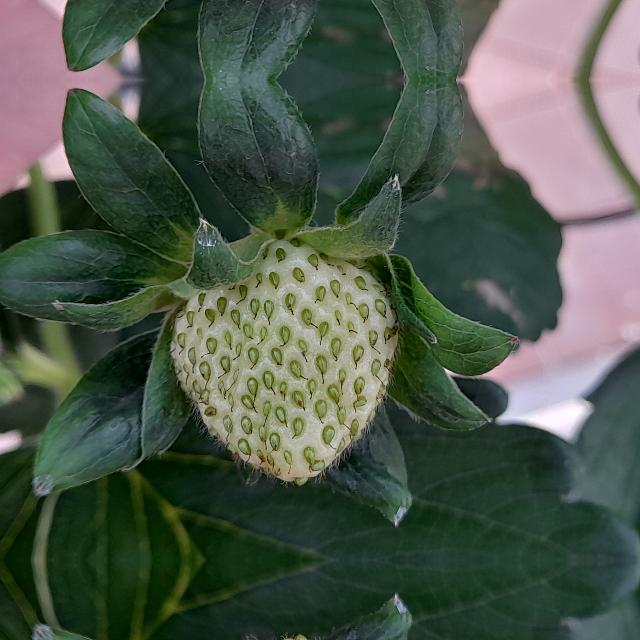Health_25: (165, 236, 405, 488)
